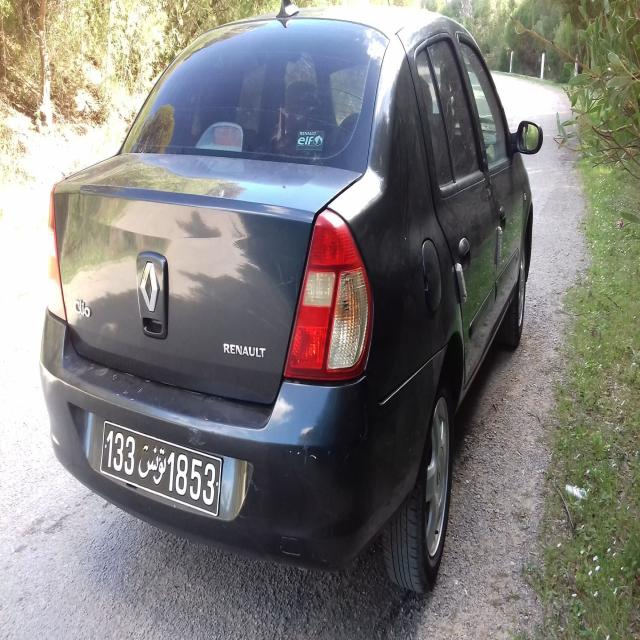LP: (99, 418, 222, 518)
